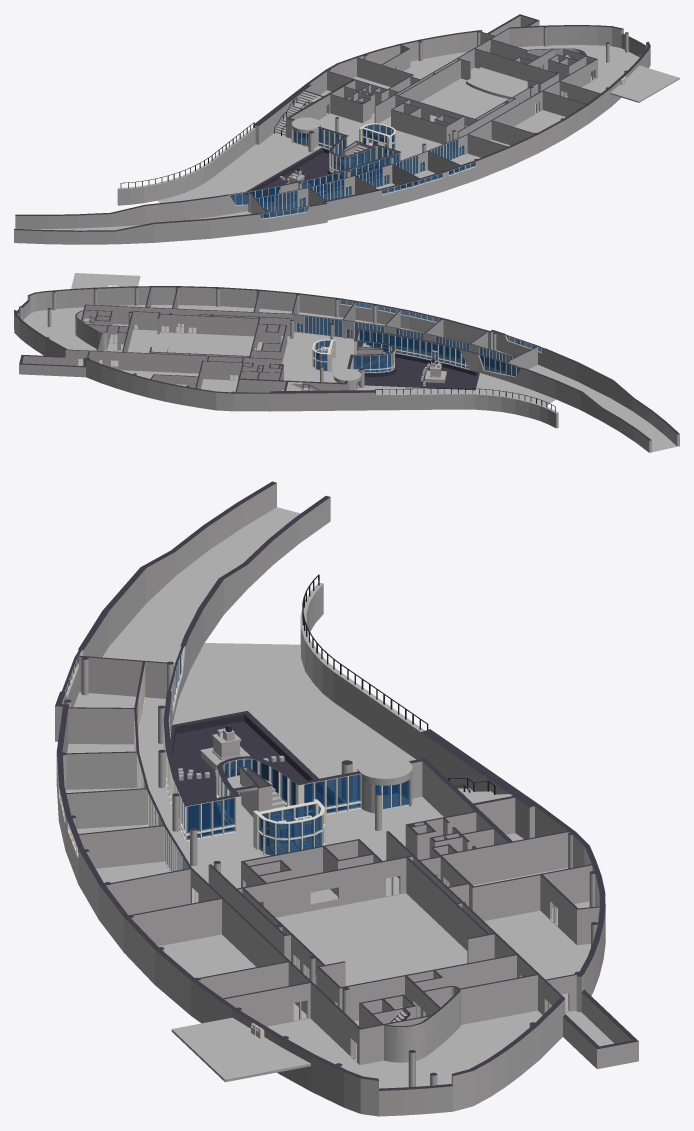
The picture shows the model from 3 angles, top to bottom: view 1: azimuth 30°, elevation 25°; view 2: azimuth 150°, elevation 25°; view 3: azimuth 270°, elevation 25°; orthographic projection. The views are drawn at different scales.
Visible parts, largest first — view 1: GIMC_B1; view 2: GIMC_B1; view 3: GIMC_B1.
Part boxes in pixels (x1,y1,x2,y2): GIMC_B1: (14, 14, 679, 244); GIMC_B1: (14, 273, 679, 452); GIMC_B1: (55, 481, 638, 1116).
Bounding box in the file's own units: 250 × 9.08 × 101.
2 materials, 2 textured.
